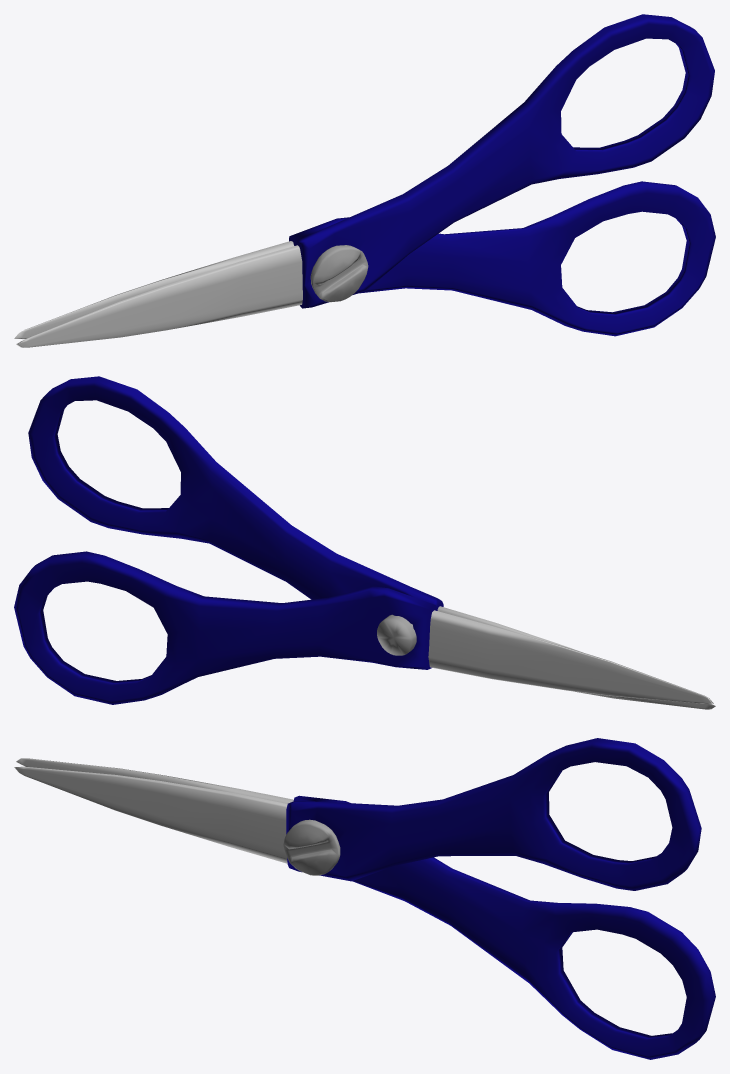
The model's file is SCISSOR.fbx.
3 renders of one model, top to bottom at view 1: azimuth 30°, elevation 25°; view 2: azimuth 150°, elevation 25°; view 3: azimuth 330°, elevation 25°, orthographic.
Parts seen in each view (by area): view 1: UpperH, DownH, UpperC, Screw, DownC; view 2: DownH, UpperH, DownC, Screw, UpperC; view 3: UpperH, DownH, UpperC, Screw, DownC.
Boxes of the visible parts, x1=… form: UpperH: x1=295, y1=14, x2=714, y2=308; DownH: x1=289, y1=181, x2=715, y2=336; UpperC: x1=16, y1=245, x2=302, y2=347; Screw: x1=310, y1=245, x2=368, y2=302; DownC: x1=14, y1=241, x2=293, y2=339; DownH: x1=14, y1=551, x2=436, y2=704; UpperH: x1=28, y1=376, x2=443, y2=610; DownC: x1=428, y1=610, x2=713, y2=703; Screw: x1=377, y1=614, x2=416, y2=655; UpperC: x1=437, y1=606, x2=715, y2=709; UpperH: x1=286, y1=738, x2=701, y2=890; DownH: x1=293, y1=795, x2=715, y2=1059; UpperC: x1=14, y1=766, x2=287, y2=863; Screw: x1=283, y1=819, x2=340, y2=875; DownC: x1=16, y1=758, x2=293, y2=803.
Bounding box in the file's own units: 9.84 × 4.26 × 0.6955.
